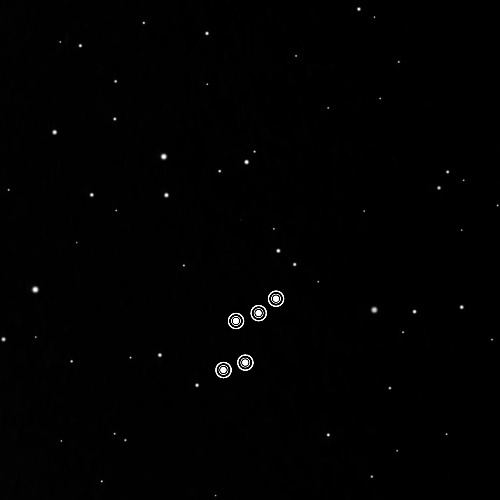lyra: (210, 280, 288, 389)
